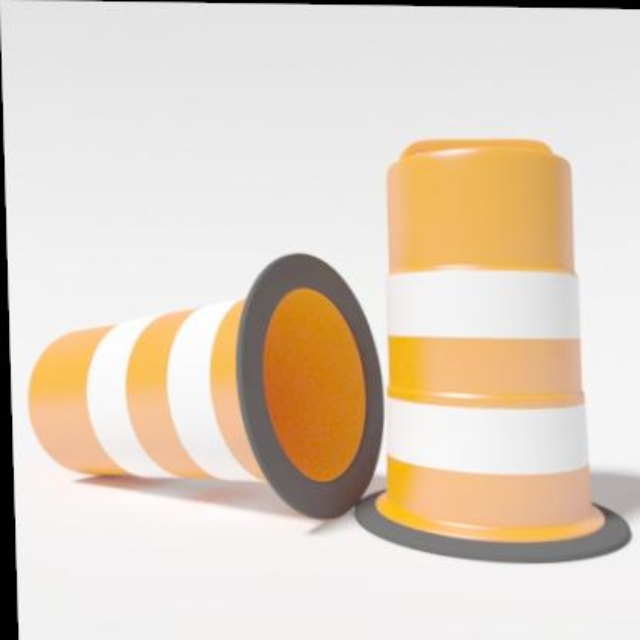obstacle: (360, 138, 619, 547), (6, 250, 378, 521)
